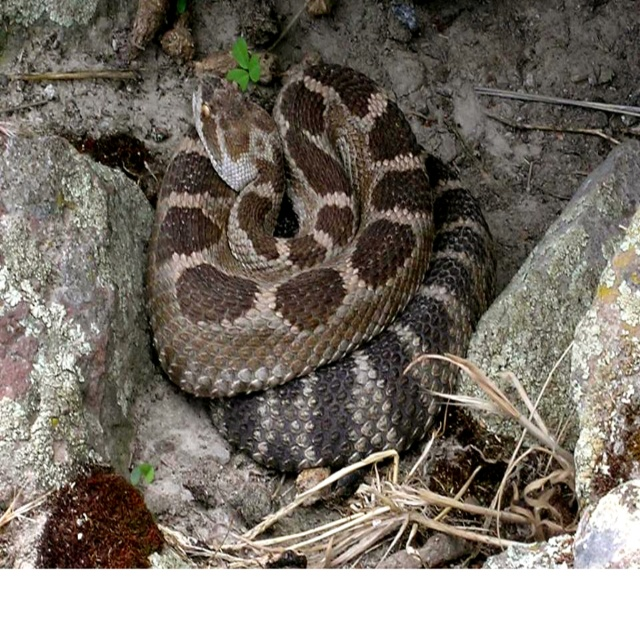Snake: (147, 64, 495, 508)
